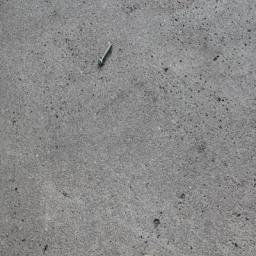FOD: (96, 42, 116, 70)
